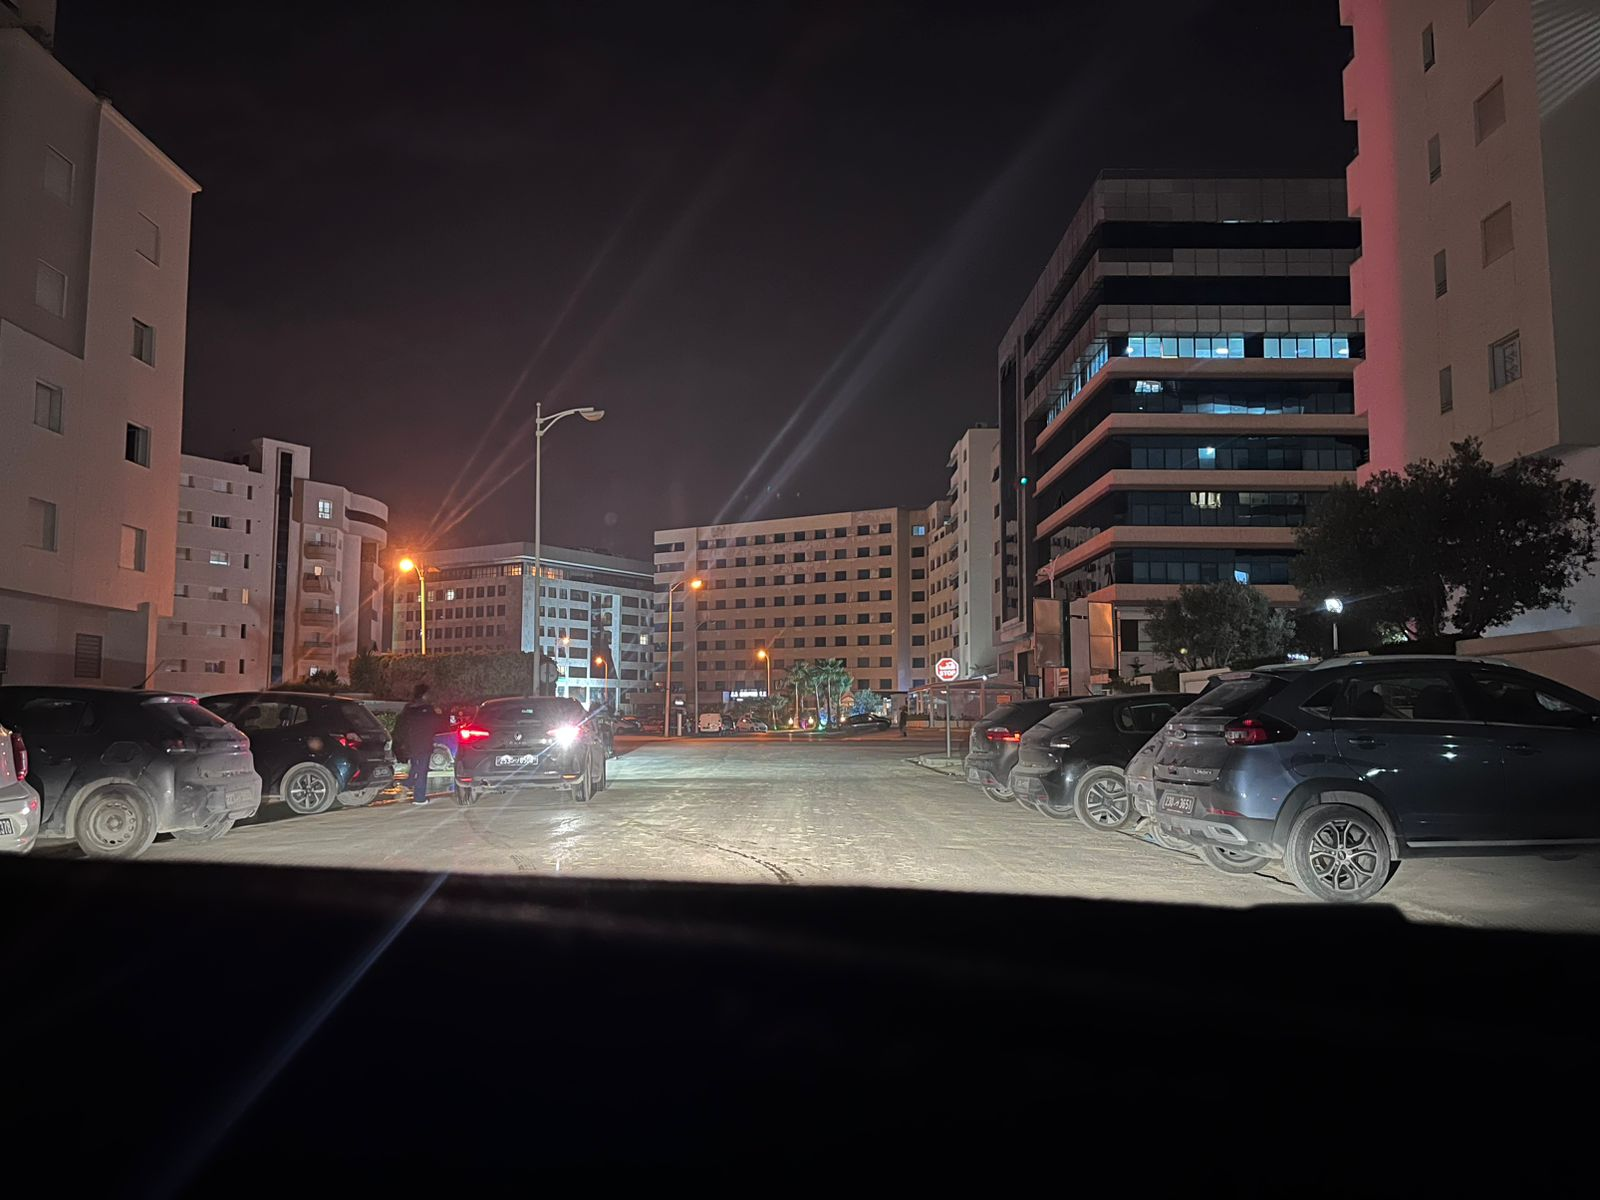Stop: (935, 657, 959, 682)
